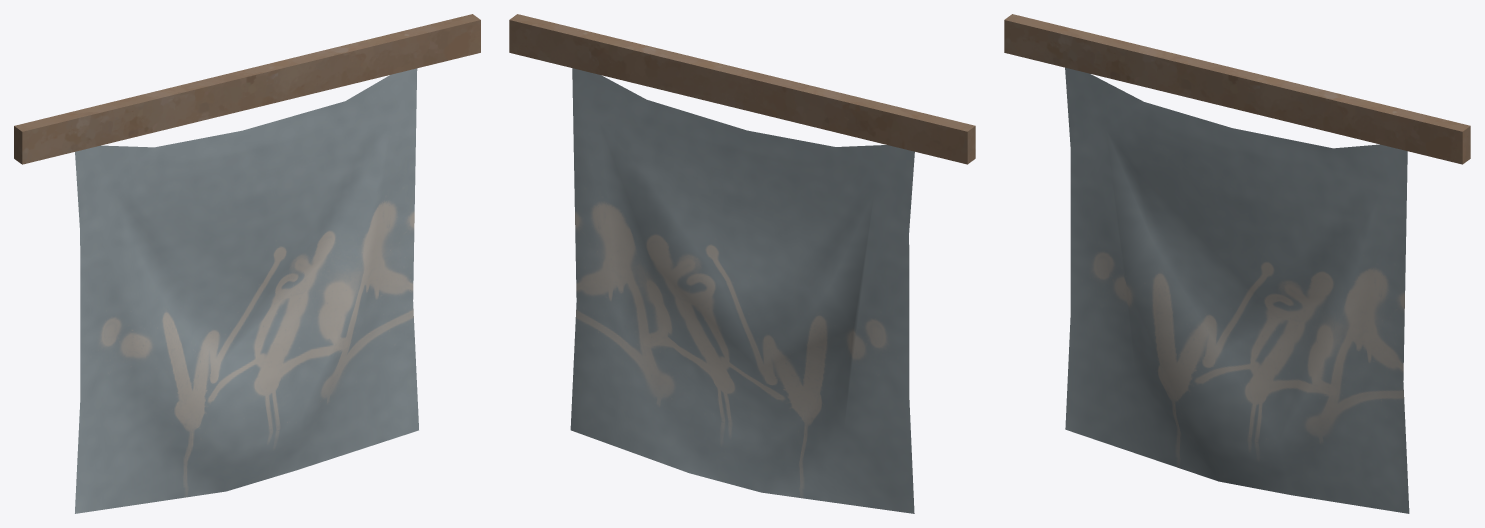
Rendered from cybercity_articles_flag01.fbx.
3 renders of one model, left to right at view 1: azimuth 30°, elevation 25°; view 2: azimuth 150°, elevation 25°; view 3: azimuth 330°, elevation 25°, orthographic.
Parts seen in each view (by area): view 1: cybercity_articles_flag01; view 2: cybercity_articles_flag01; view 3: cybercity_articles_flag01.
Boxes of the visible parts, x1,y1,x2,y2 form: cybercity_articles_flag01: (14,14,480,513); cybercity_articles_flag01: (509,14,975,513); cybercity_articles_flag01: (1004,14,1470,513).
Bounding box in the file's own units: 1.16 × 0.9987 × 0.0477.
